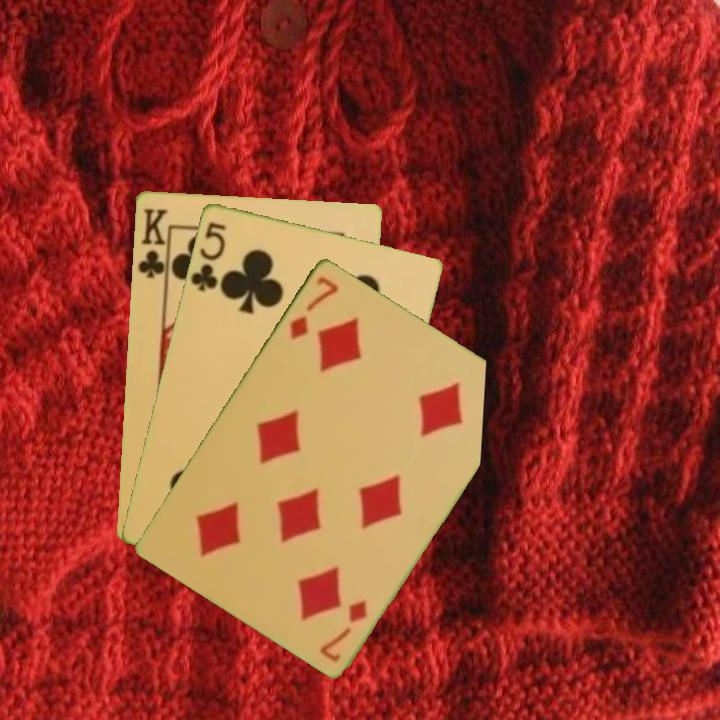5c: (187, 218, 229, 294)
7d: (285, 271, 342, 342), (316, 595, 371, 664)
Kc: (134, 204, 171, 285)
